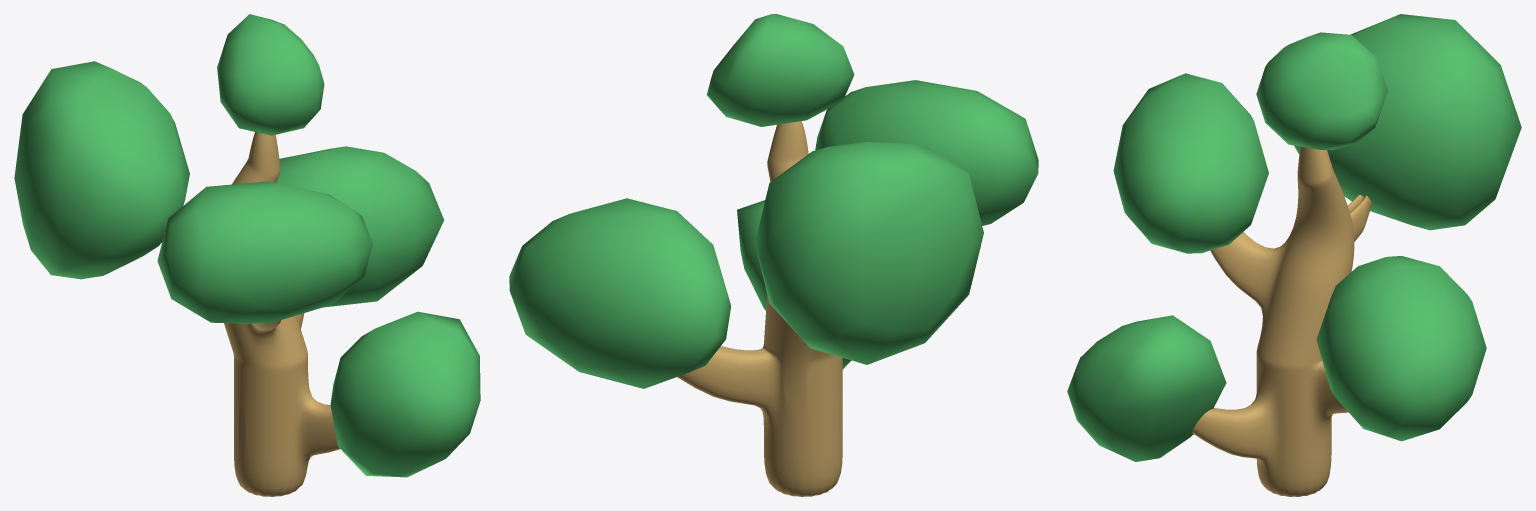
The model's file is wood2.fbx.
3 renders of one model, left to right at view 1: azimuth 30°, elevation 25°; view 2: azimuth 150°, elevation 25°; view 3: azimuth 270°, elevation 25°, orthographic. The views are drawn at different scales.
Parts seen in each view (by area): view 1: polySurface12; view 2: polySurface12; view 3: polySurface12.
Part boxes in pixels (x1,y1,x2,y2): polySurface12: [14, 14, 480, 496]; polySurface12: [509, 14, 1038, 496]; polySurface12: [1067, 14, 1521, 496].
Bounding box in the file's own units: 12.12 × 12.66 × 11.44.
